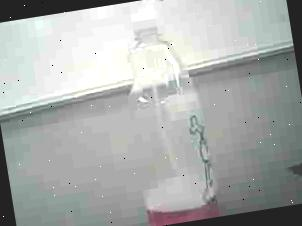hazard: (106, 0, 225, 226)
